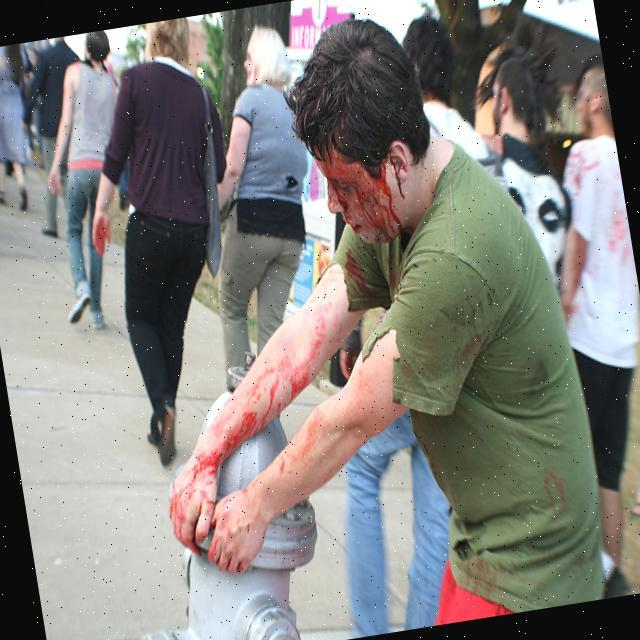fire_hydrant: (81, 341, 338, 640)
